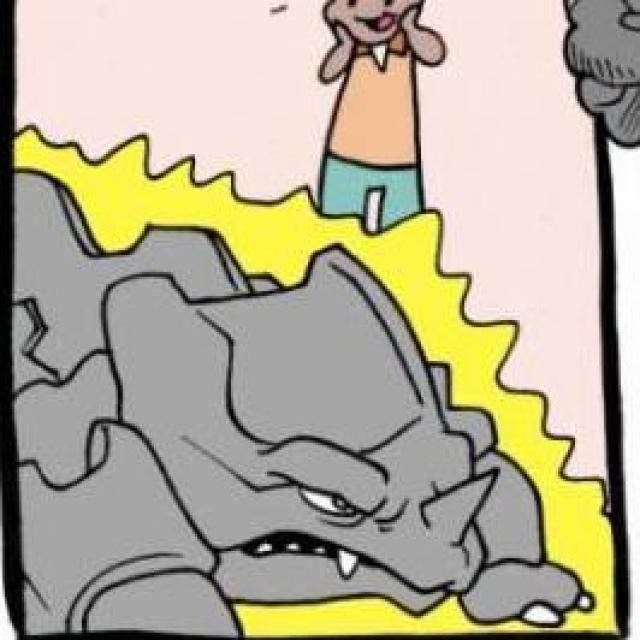Rhyhorn: (0, 224, 483, 630)
